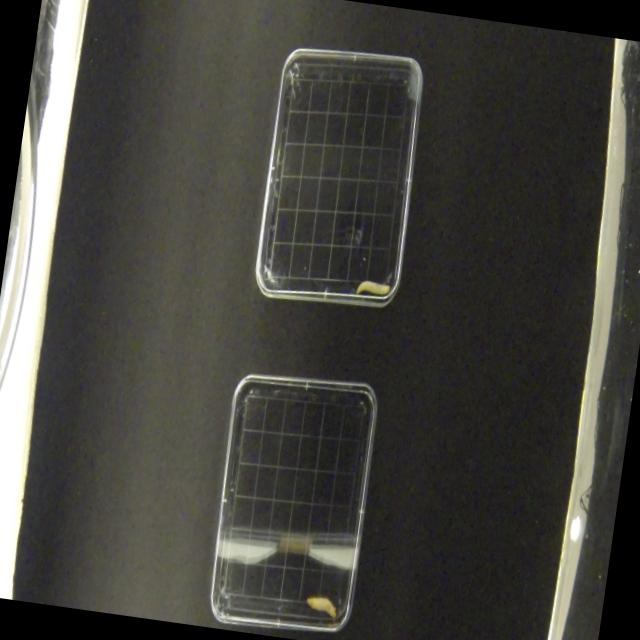larva: (304, 594, 339, 621)
